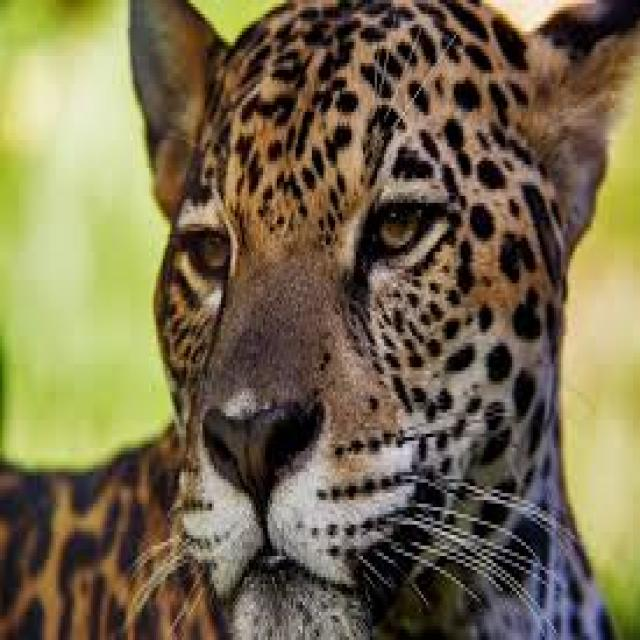Jaguar: (70, 4, 631, 626)
